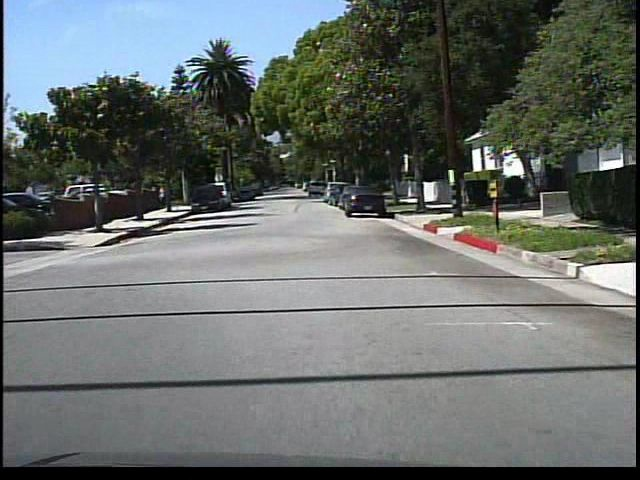person: (156, 182, 170, 210)
